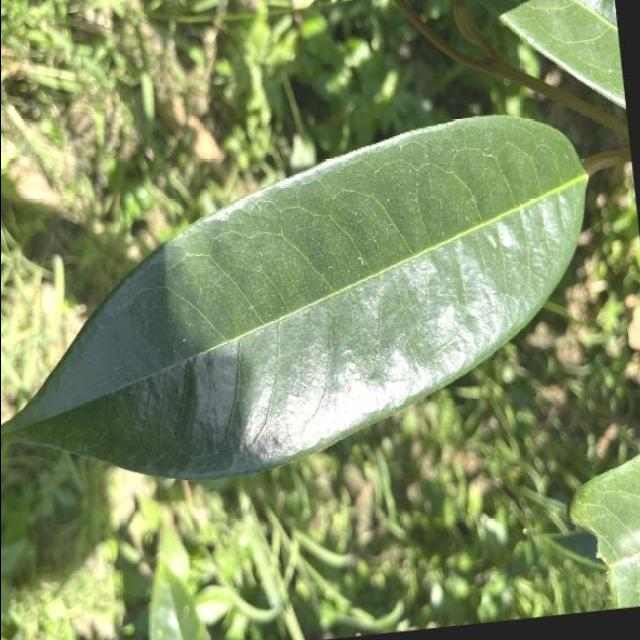No Disease: (0, 95, 632, 522)
